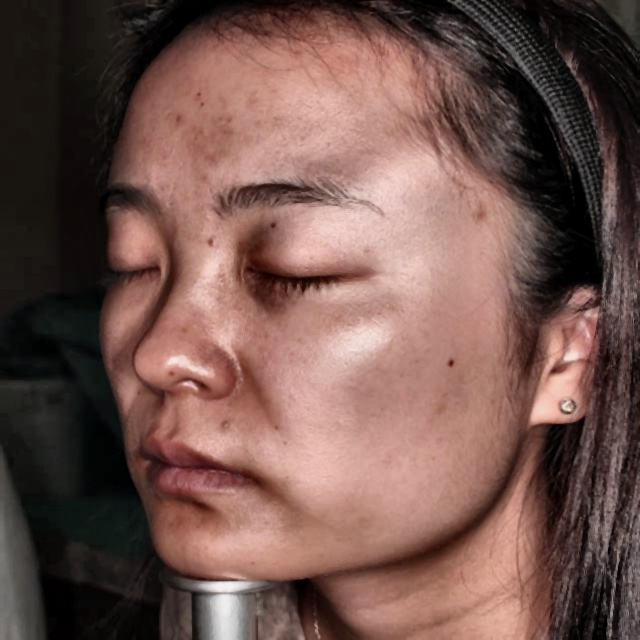comedone: (469, 203, 491, 230), (213, 410, 235, 437)
